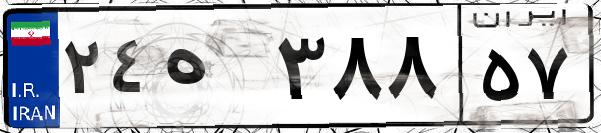2: (57, 26, 110, 100)
3: (270, 28, 330, 110)
4: (110, 28, 158, 98)
5: (475, 38, 525, 113)
7: (525, 38, 570, 115)
8: (385, 28, 445, 110), (330, 28, 385, 110)
ه: (158, 20, 270, 120)
